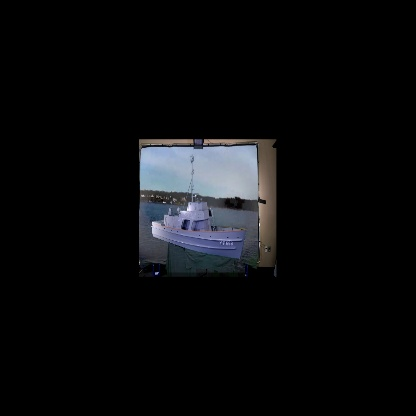YP689: (150, 153, 246, 260)
